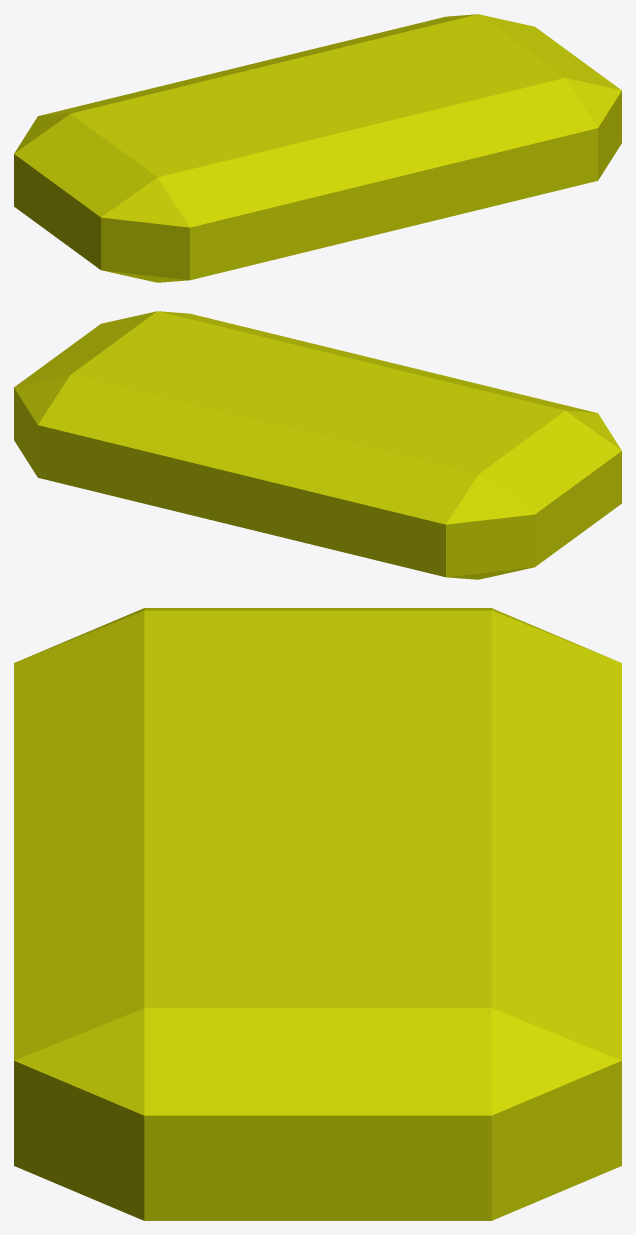
The model's file is esponja.fbx.
3 views of the same model, one above another, from view 1: azimuth 30°, elevation 25°; view 2: azimuth 150°, elevation 25°; view 3: azimuth 270°, elevation 25° (orthographic). The views are drawn at different scales.
Parts seen in each view (by area): view 1: esponja; view 2: esponja; view 3: esponja.
Part boxes in pixels (left/top/right/bottom): esponja: left=14, top=14, right=621, bottom=282; esponja: left=14, top=311, right=621, bottom=579; esponja: left=14, top=608, right=621, bottom=1220.
Bounding box in the file's own units: 1.27 × 0.2447 × 0.6409.
